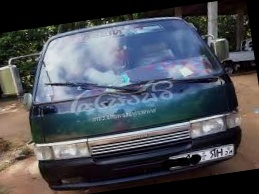van: (0, 5, 253, 194)
